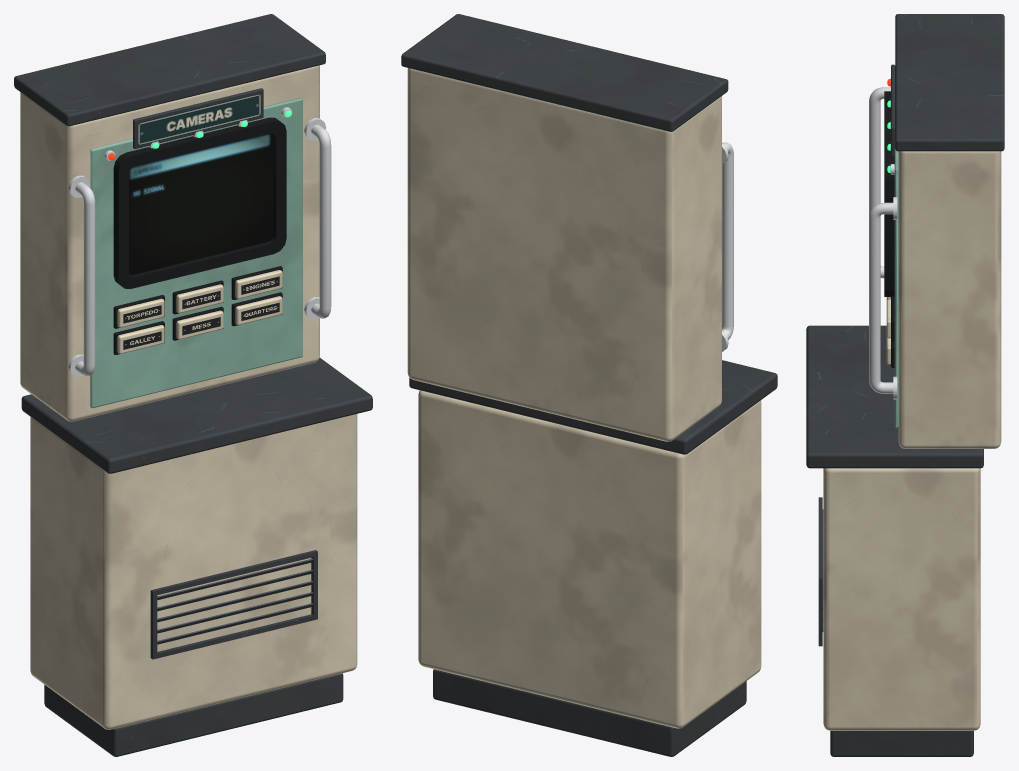
File: CameraConsole.glb
The picture shows the model from 3 angles, left to right: view 1: azimuth 30°, elevation 25°; view 2: azimuth 150°, elevation 25°; view 3: azimuth 270°, elevation 25°; orthographic projection. The views are drawn at different scales.
Parts seen in each view (by area): view 1: CameraConsole_Body, CameraConsole_Cam5, CameraConsole_Cam1, CameraConsole_Cam3, CameraConsole_Cam2, CameraConsole_Cam4, CameraConsole_Cam6; view 2: CameraConsole_Body; view 3: CameraConsole_Body.
Boxes of the visible parts, bbox=[...] form: CameraConsole_Body: bbox=[14, 14, 372, 756]; CameraConsole_Cam5: bbox=[176, 310, 223, 339]; CameraConsole_Cam1: bbox=[117, 298, 164, 327]; CameraConsole_Cam3: bbox=[235, 270, 282, 298]; CameraConsole_Cam2: bbox=[176, 284, 223, 313]; CameraConsole_Cam4: bbox=[117, 325, 164, 353]; CameraConsole_Cam6: bbox=[235, 296, 282, 324]; CameraConsole_Body: bbox=[401, 14, 777, 756]; CameraConsole_Body: bbox=[806, 14, 1004, 756].
Size of the model in its own units: 0.9 by 2.02 by 0.58.
Materials: 16 (11 with a texture image).
